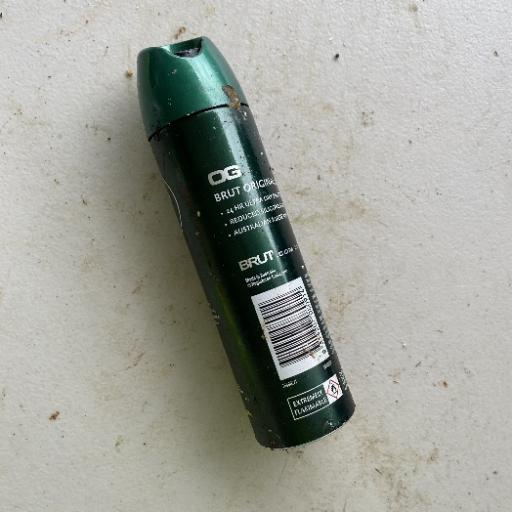Metal: (132, 34, 359, 450)
